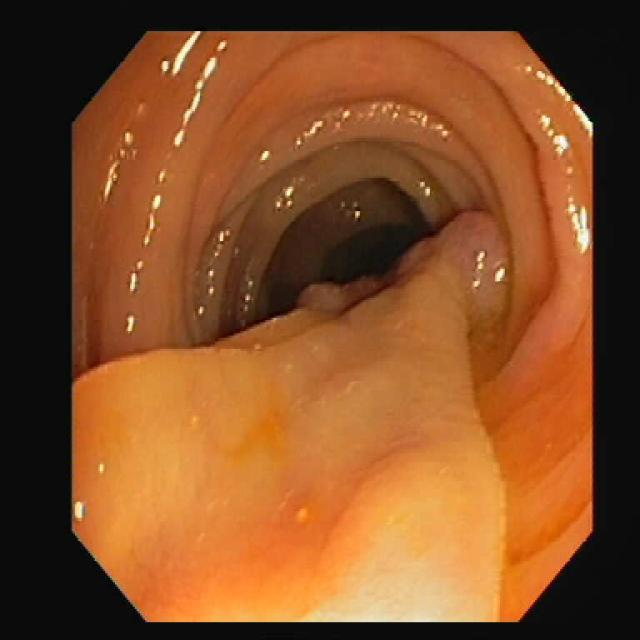tumor: (393, 211, 505, 289)
